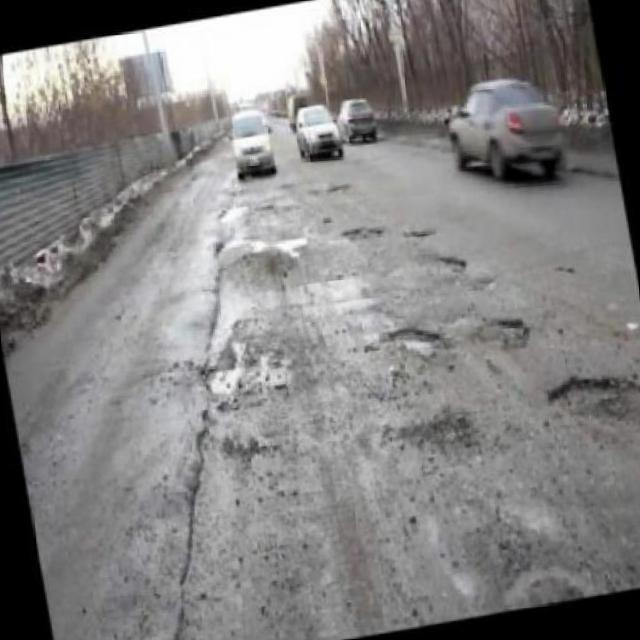Pothole: (547, 378, 640, 412), (472, 317, 531, 352), (378, 327, 445, 356)
